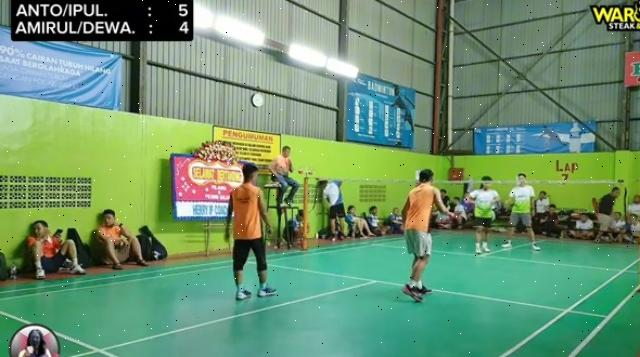Shuttlecock: (490, 203, 498, 213)
